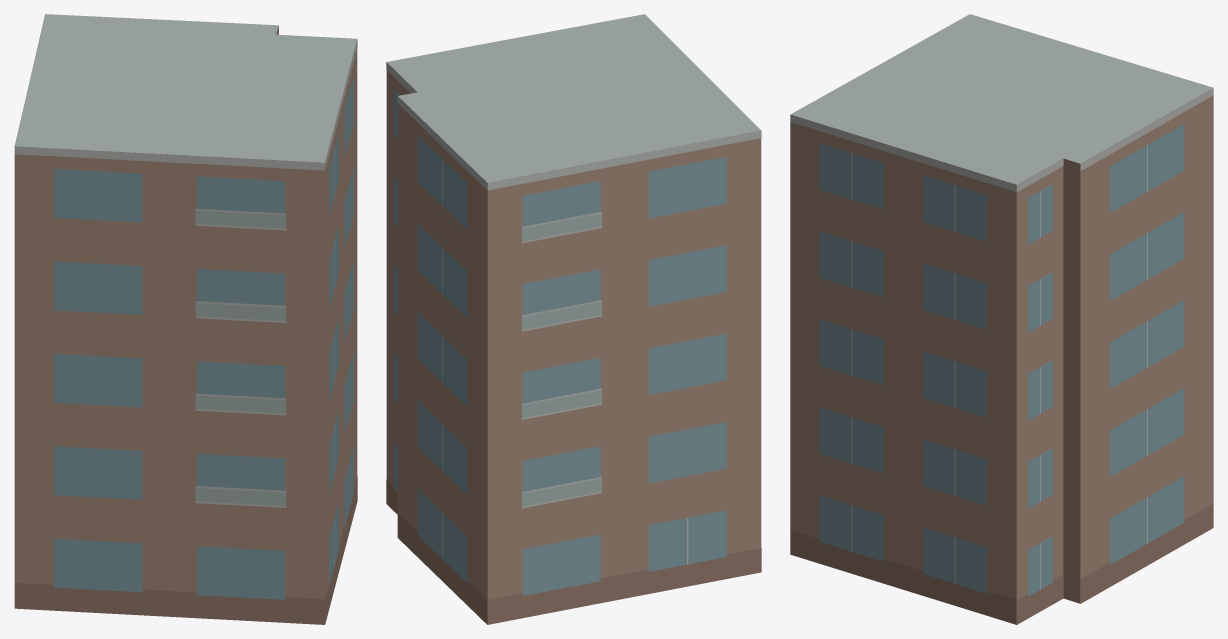
The model's file is survey-upis-32680416.glb.
The picture shows the model from 3 angles, left to right: view 1: azimuth 30°, elevation 25°; view 2: azimuth 150°, elevation 25°; view 3: azimuth 270°, elevation 25°; orthographic projection. The views are drawn at different scales.
Visible parts, largest first — view 1: survey-upis-32680416.tmp; view 2: survey-upis-32680416.tmp; view 3: survey-upis-32680416.tmp.
Boxes of the visible parts, bbox=[...] form: survey-upis-32680416.tmp: bbox=[14, 14, 357, 624]; survey-upis-32680416.tmp: bbox=[386, 14, 761, 624]; survey-upis-32680416.tmp: bbox=[790, 14, 1213, 624].
Bounding box in the file's own units: 11.91 × 14.3 × 12.48.
